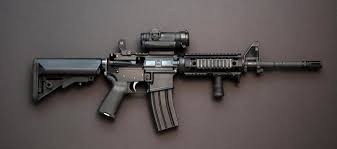gun: (99, 28, 325, 127)
